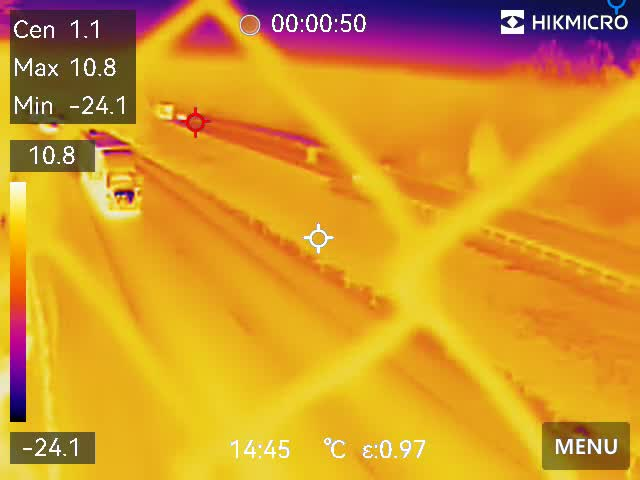heavyTruck: (79, 126, 143, 217), (152, 98, 179, 122)
